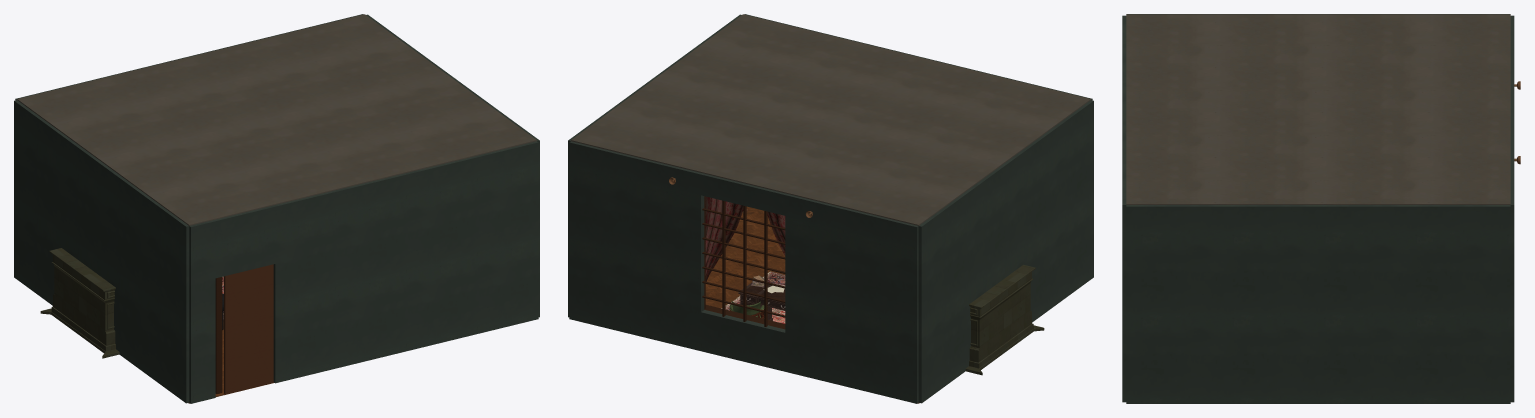
The model's file is room.glb.
The picture shows the model from 3 angles, left to right: view 1: azimuth 30°, elevation 25°; view 2: azimuth 150°, elevation 25°; view 3: azimuth 270°, elevation 25°; orthographic projection. The views are drawn at different scales.
Visible parts, largest first — view 1: room; view 2: room, furniture; view 3: room.
Part boxes in pixels (x1,y1,x2,y2): room: [14, 14, 539, 403]; room: [568, 14, 1093, 403]; furniture: [669, 177, 812, 323]; room: [1122, 14, 1514, 403].
Size of the model in its own units: 7.47 by 3.44 by 6.22.
51 materials, 40 textured.
